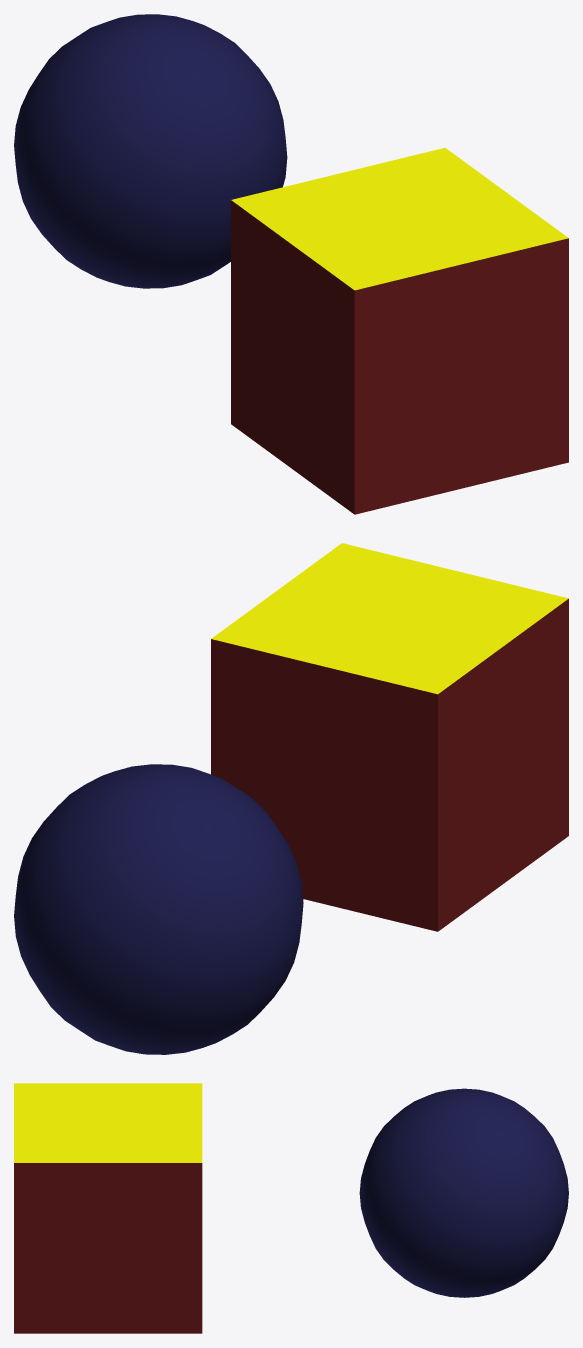
The model's file is texture_demo.obj.
3 renders of one model, top to bottom at view 1: azimuth 30°, elevation 25°; view 2: azimuth 150°, elevation 25°; view 3: azimuth 270°, elevation 25°, orthographic. The views are drawn at different scales.
Visible parts, largest first — view 1: pCube2, pSphere1; view 2: pCube2, pSphere1; view 3: pCube2, pSphere1.
Boxes of the visible parts, x1=… form: pCube2: x1=231, y1=148, x2=568, y2=514; pSphere1: x1=14, y1=14, x2=287, y2=288; pCube2: x1=211, y1=543, x2=568, y2=931; pSphere1: x1=14, y1=764, x2=303, y2=1054; pCube2: x1=14, y1=1083, x2=202, y2=1333; pSphere1: x1=359, y1=1088, x2=568, y2=1297.
Bounding box in the file's own units: 7.17 × 7.07 × 18.74.
